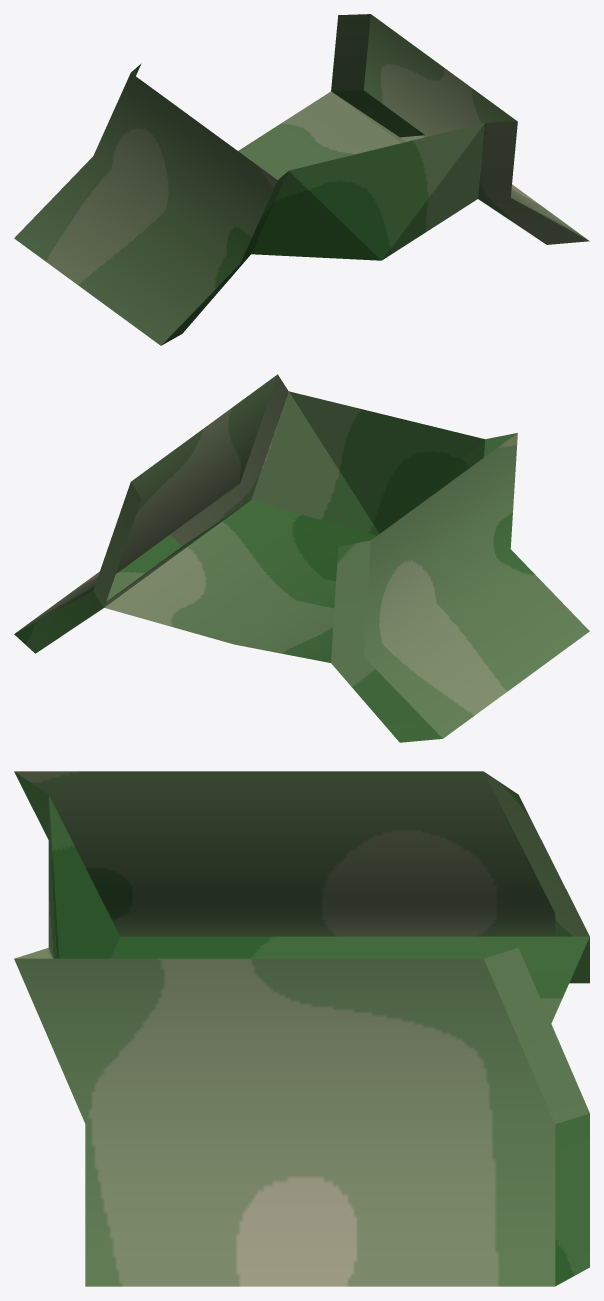
Rendered from MegaWummaDestructionPart1.fbx.
3 renders of one model, top to bottom at view 1: azimuth 30°, elevation 25°; view 2: azimuth 150°, elevation 25°; view 3: azimuth 270°, elevation 25°, orthographic. The views are drawn at different scales.
Visible parts, largest first — view 1: TetraSphere; view 2: TetraSphere; view 3: TetraSphere.
Part boxes in pixels (left/top/right/bottom): TetraSphere: left=14, top=14, right=589, bottom=345; TetraSphere: left=14, top=374, right=589, bottom=742; TetraSphere: left=14, top=771, right=589, bottom=1286.
Bounding box in the file's own units: 8.74 × 3.17 × 6.36.
Materials: 1 (1 with a texture image).
